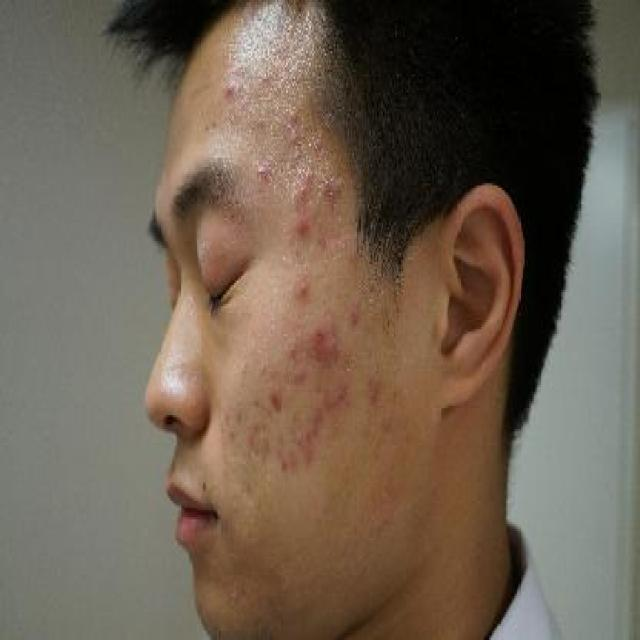papules: (289, 271, 314, 311), (289, 216, 314, 246), (220, 74, 243, 104), (257, 156, 275, 192), (283, 336, 303, 366), (279, 125, 303, 148), (323, 336, 343, 362), (289, 186, 311, 208)
